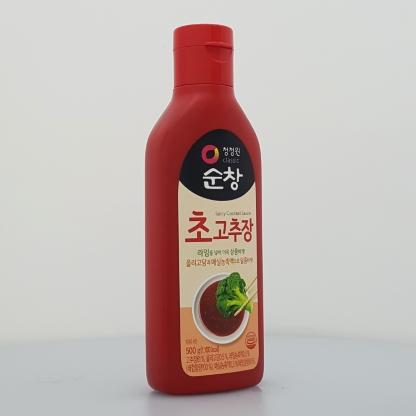---------: (145, 23, 264, 396)
